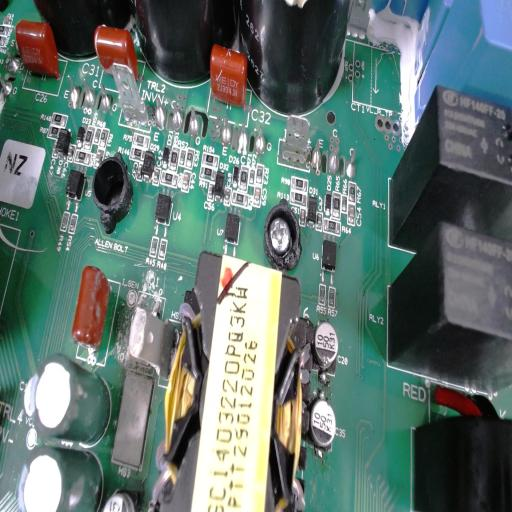pin_group: (56, 62, 114, 122), (216, 108, 269, 161), (148, 93, 201, 141), (308, 136, 362, 183)
solder_ball: (62, 68, 80, 109), (96, 77, 112, 117), (151, 94, 168, 130), (82, 76, 96, 114), (327, 142, 342, 176), (254, 122, 268, 158), (345, 147, 360, 180), (170, 96, 183, 134), (186, 102, 200, 137), (237, 120, 250, 154), (310, 139, 324, 170), (220, 112, 233, 144)
